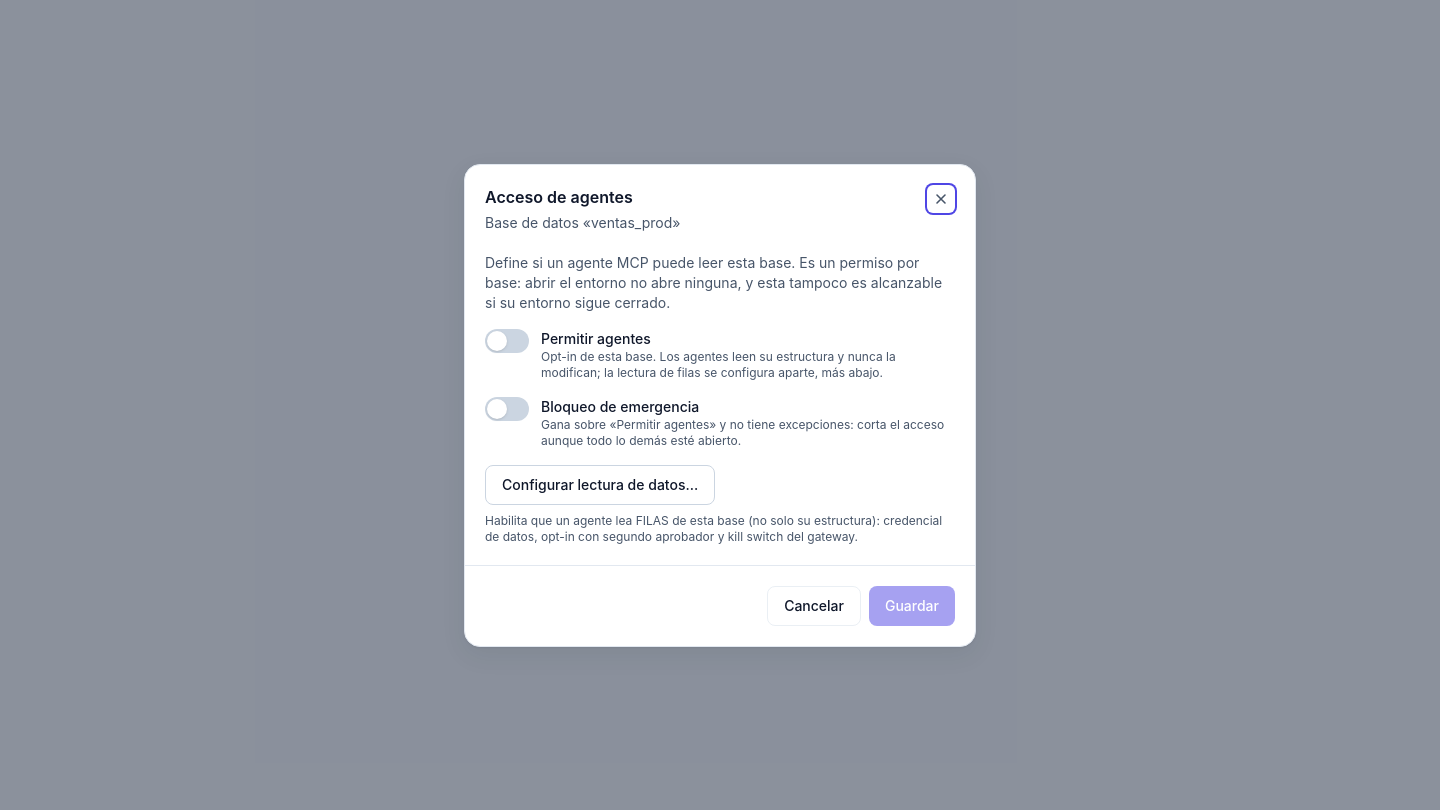
Test: AgentAccessModal › credencial de solo lectura del servidor › el consentimiento deja claro que la credencial es por servidor
What coordinates should you click on to do the following:
click the 1st switch named "Permitir agentes"
I would click on:
 (507, 340)
Its box is [485,328,529,352].
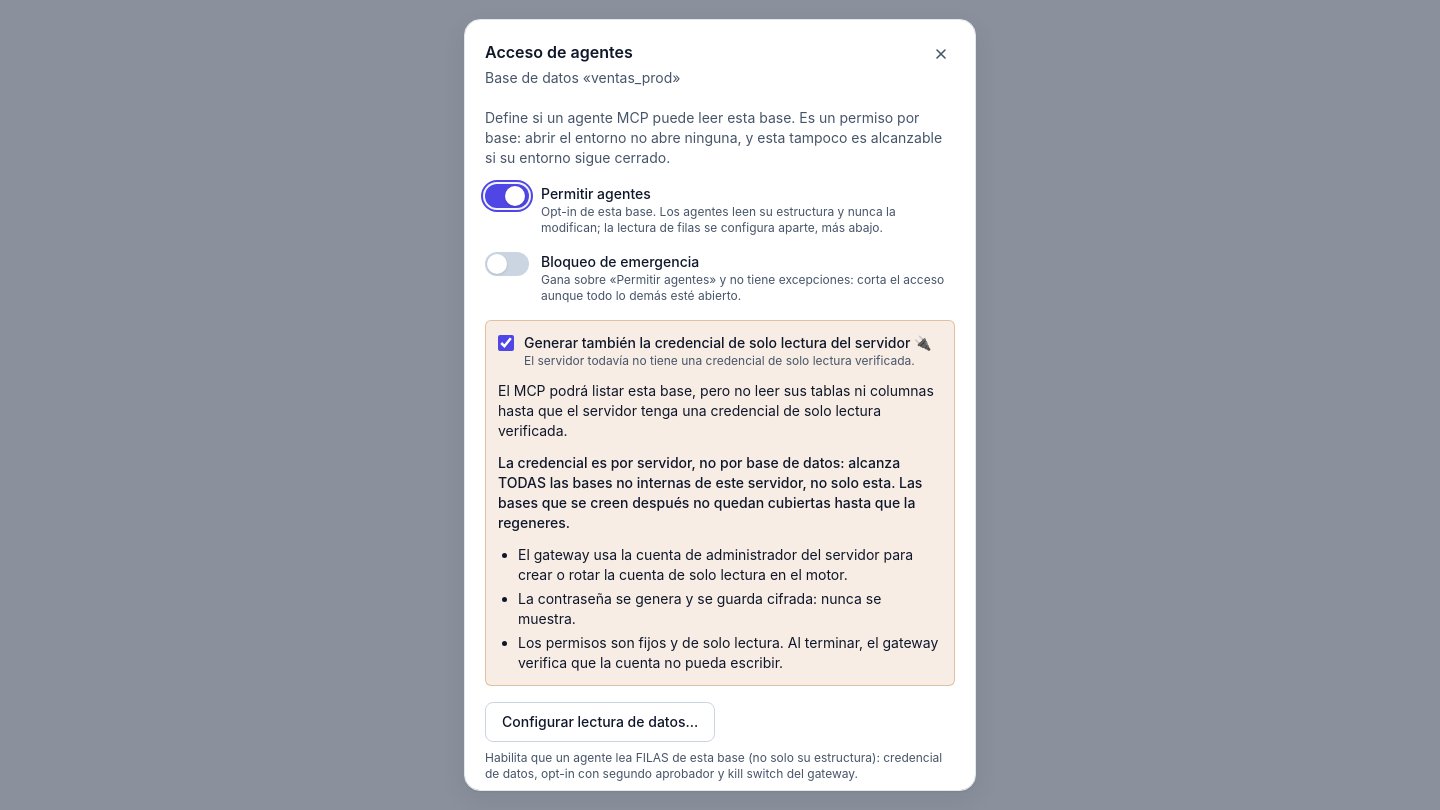
Now the text "no quedan cubiertas hasta que la regeneres" is shown, box [498,454,922,531]
Now the list item "cuenta de administrador del servidor" is shown, box [518,546,913,583]
Now the list item "nunca se muestra" is shown, box [518,590,881,627]
